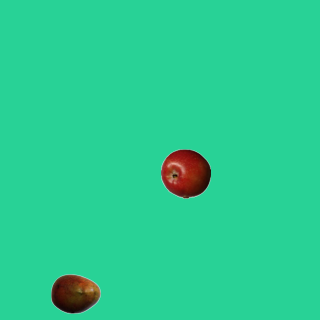Apple Braeburn: (160, 148, 210, 198)
Mango Red: (50, 268, 100, 318)
